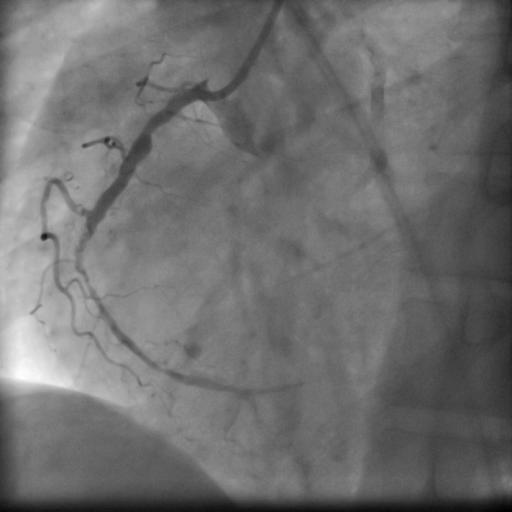Stenosis: (142, 111, 167, 139)
